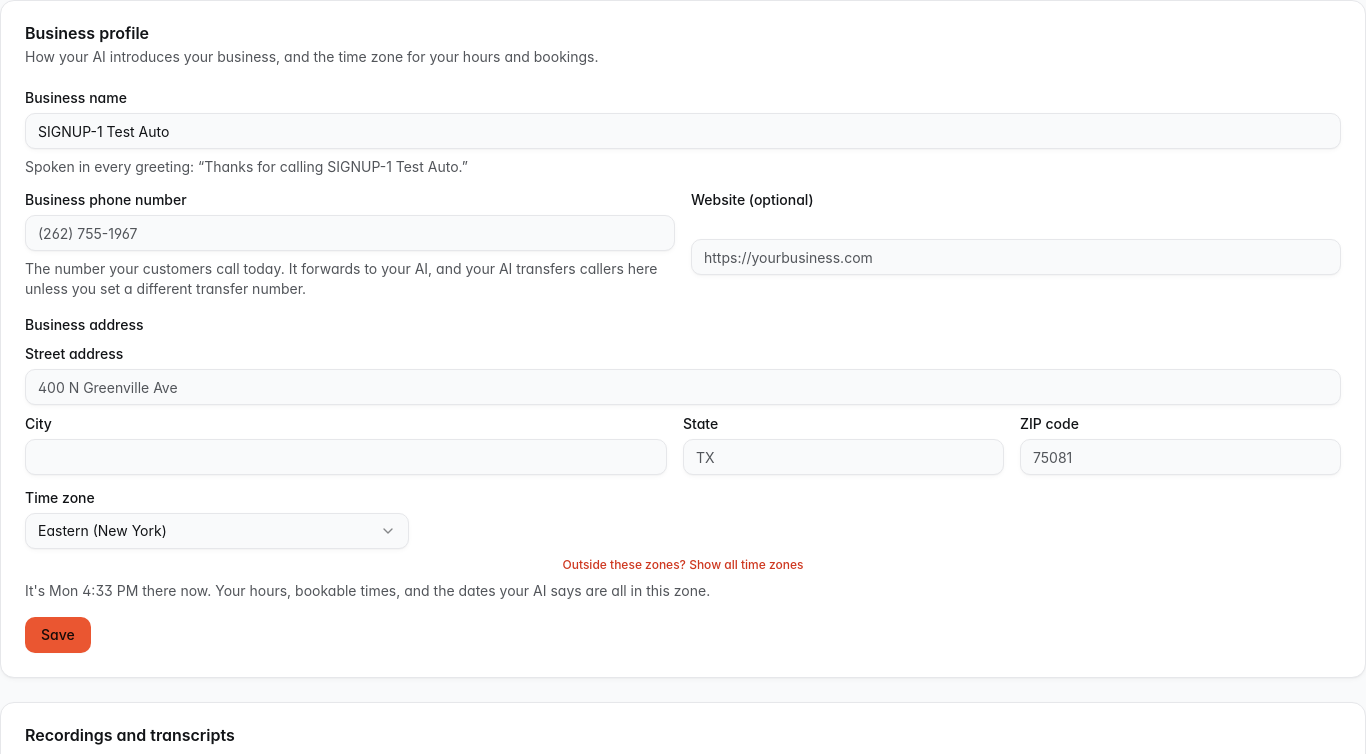
BusinessTabPage (SETTINGS-1) › rejects an invalid business phone inline
Click the field labelled "Business phone number" at (350, 233), box [25, 215, 675, 251]
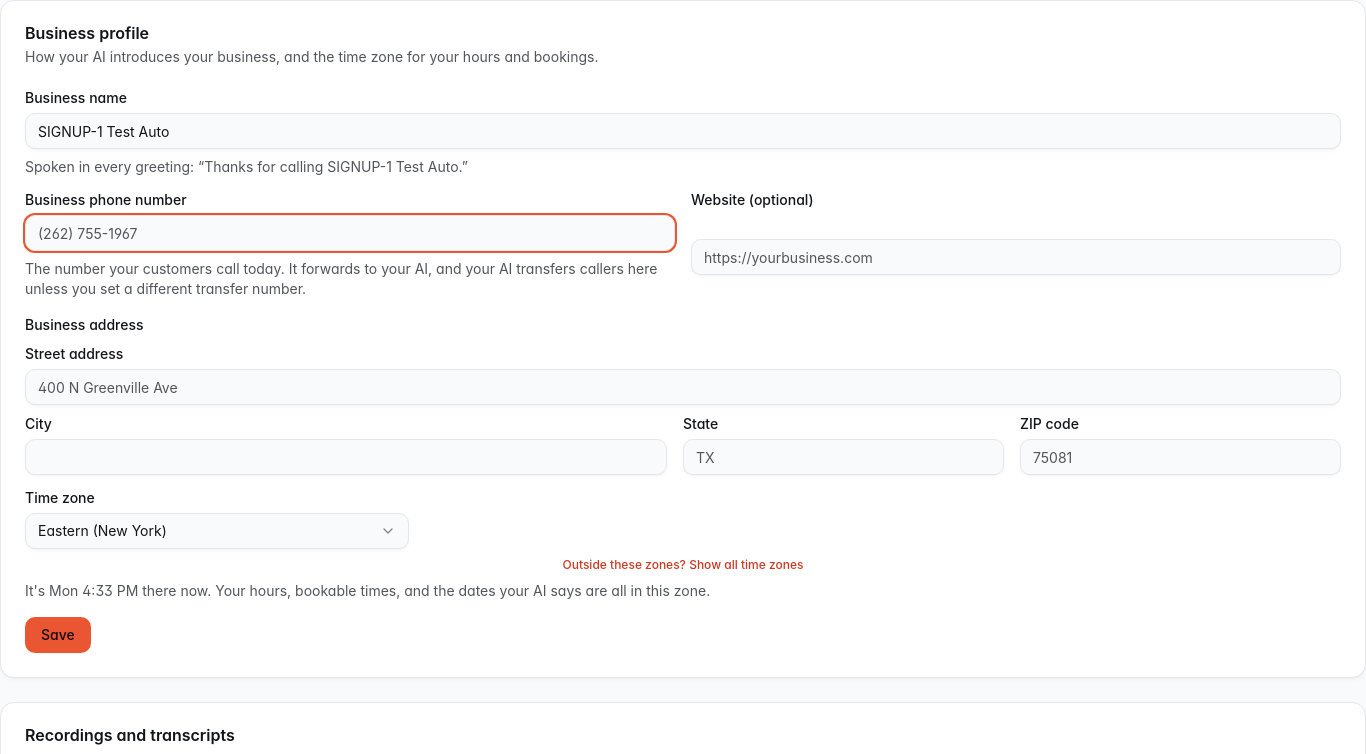
Type keys "555-0100"
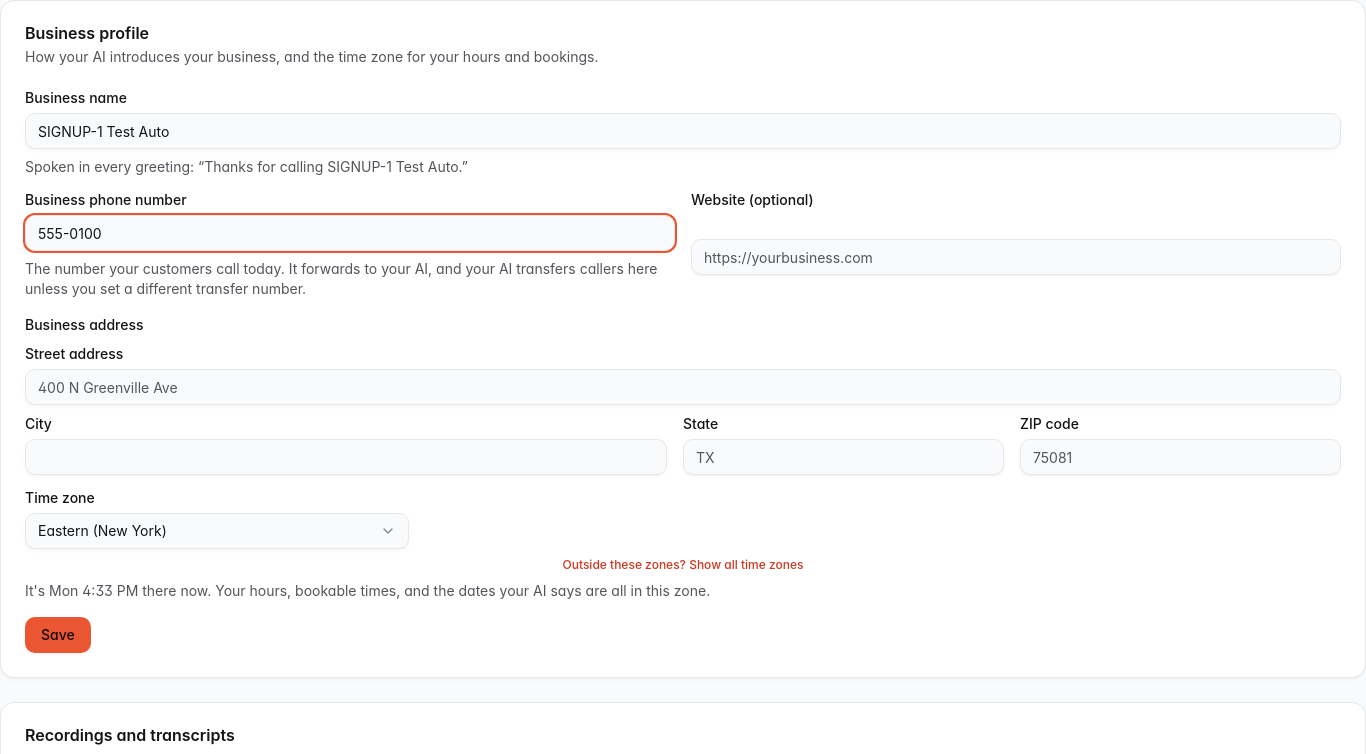
Click the button "Save" at (58, 635), box [25, 617, 91, 653]
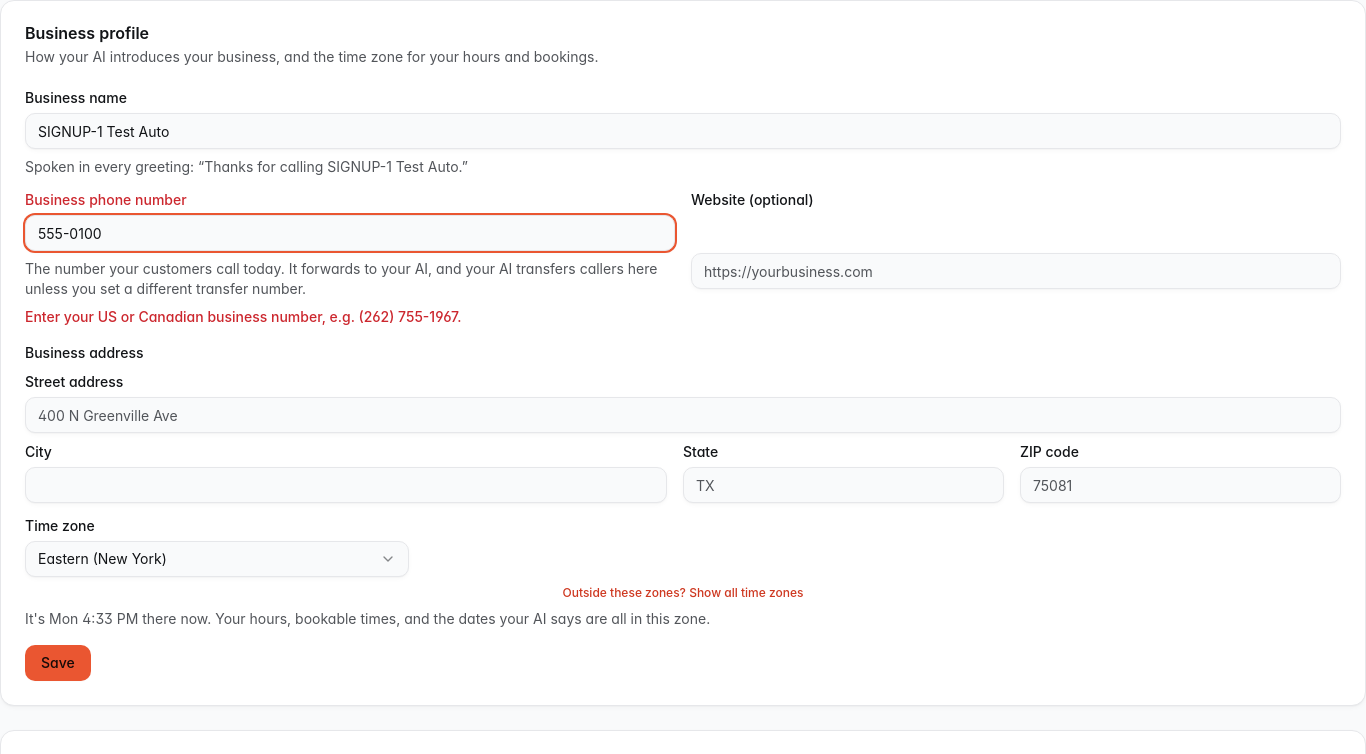
Expected: the text "US or Canadian business number" is shown, [25, 308, 462, 325]
